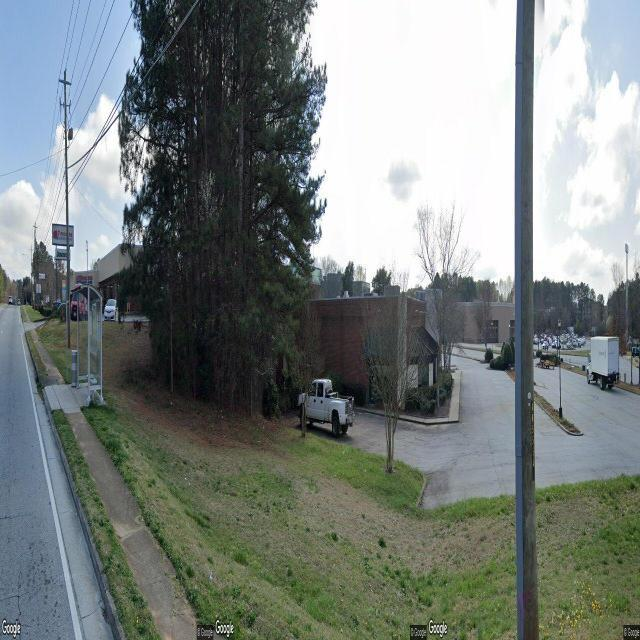seating: (86, 374, 98, 402)
shelter: (70, 283, 104, 406)
trash_can: (71, 349, 78, 387)
